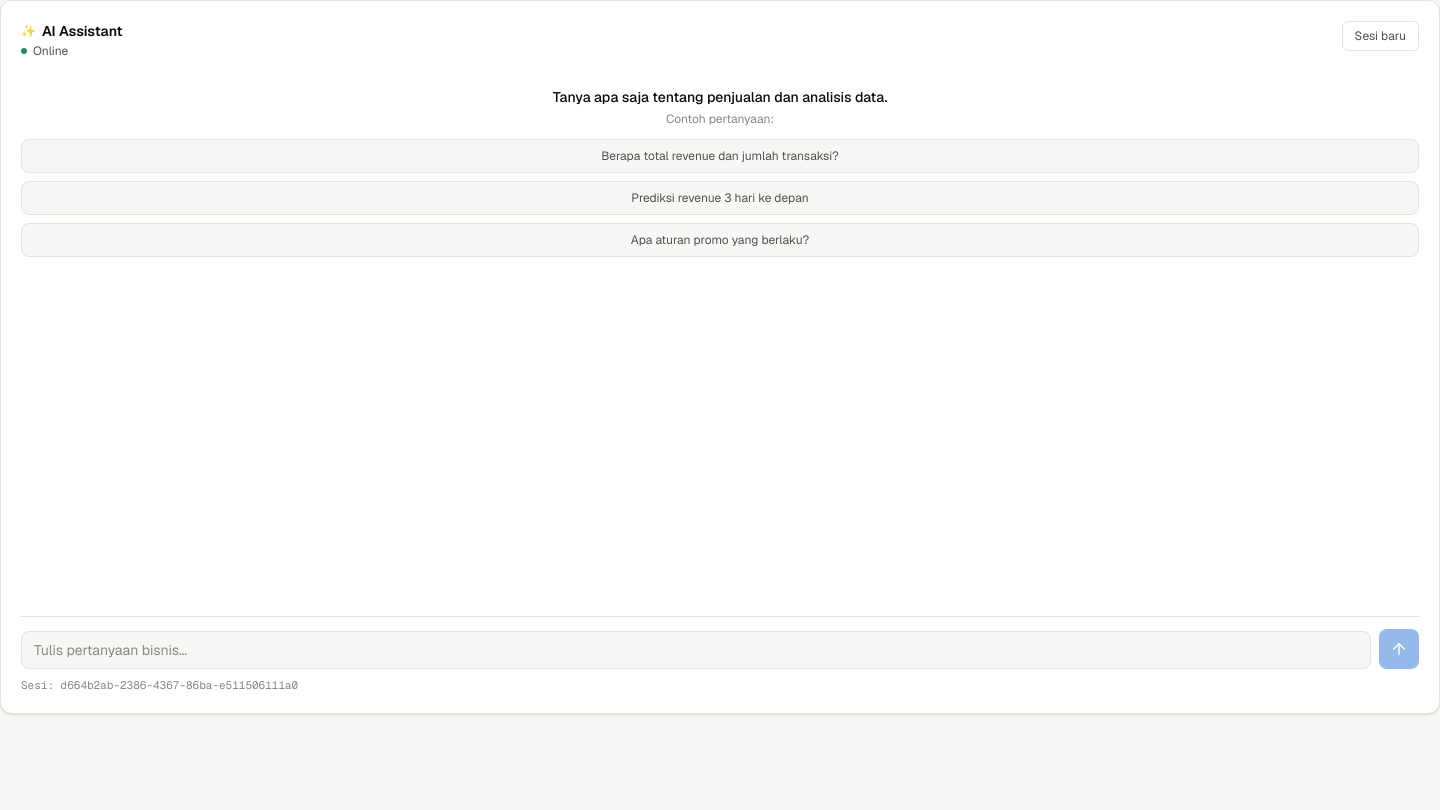
AssistantSidebar › alur chat tetap berfungsi di dalam sidebar: jawaban + chip tool + sumber
Type "Berapa total revenue?" into the field named "Pertanyaan untuk AI assistant" at [696, 650], box 21,630 -> 1371,668
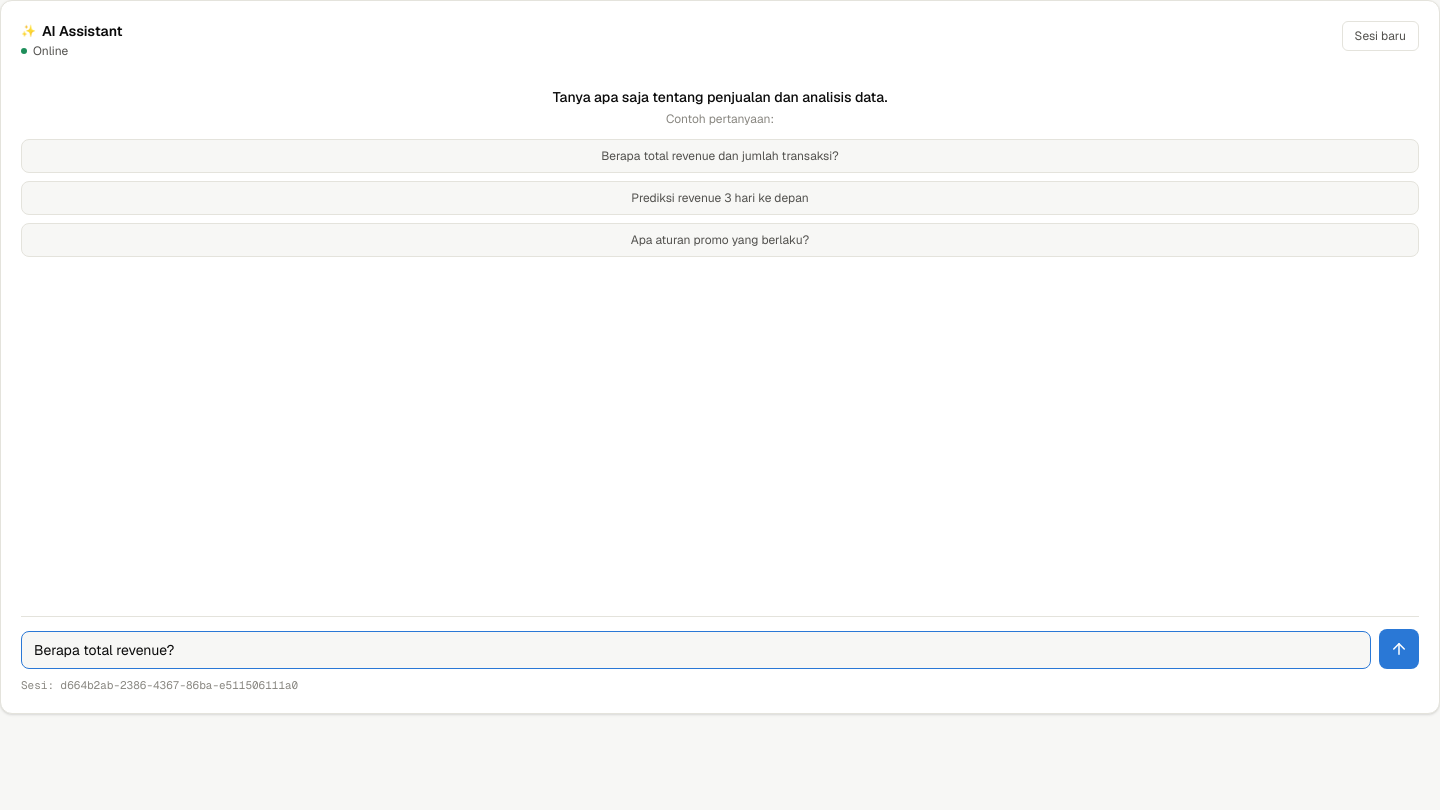
Click the button named "Kirim" at [1399, 648], box 1379,628 -> 1419,668
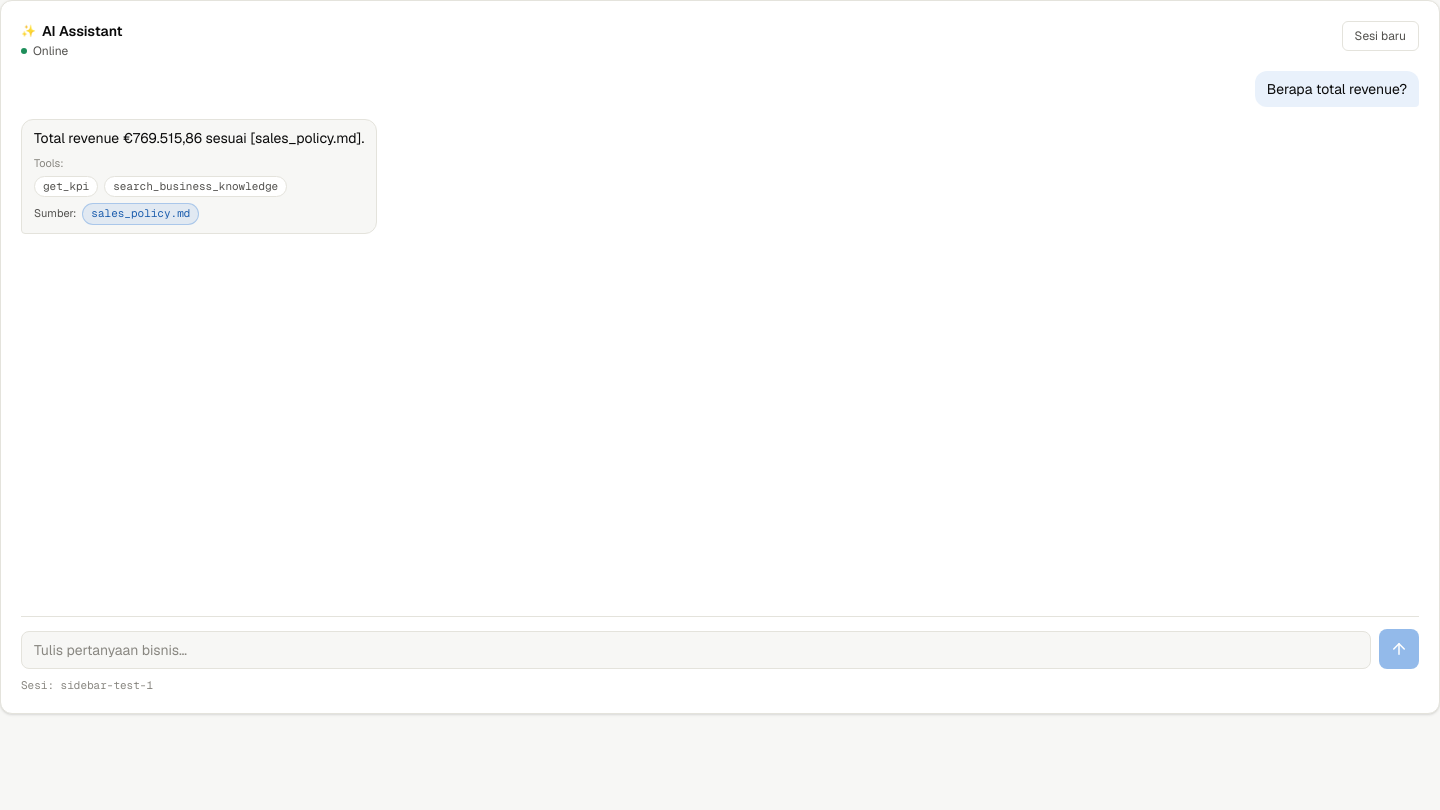
Expected: the text "Total revenue €769.515,86 sesuai [sales_policy.md]." is shown, 34,128 -> 364,148
Expected: the text "get_kpi" is shown, 34,176 -> 98,197
Expected: the text "Sumber: sales_policy.md" is shown, 34,203 -> 199,225
